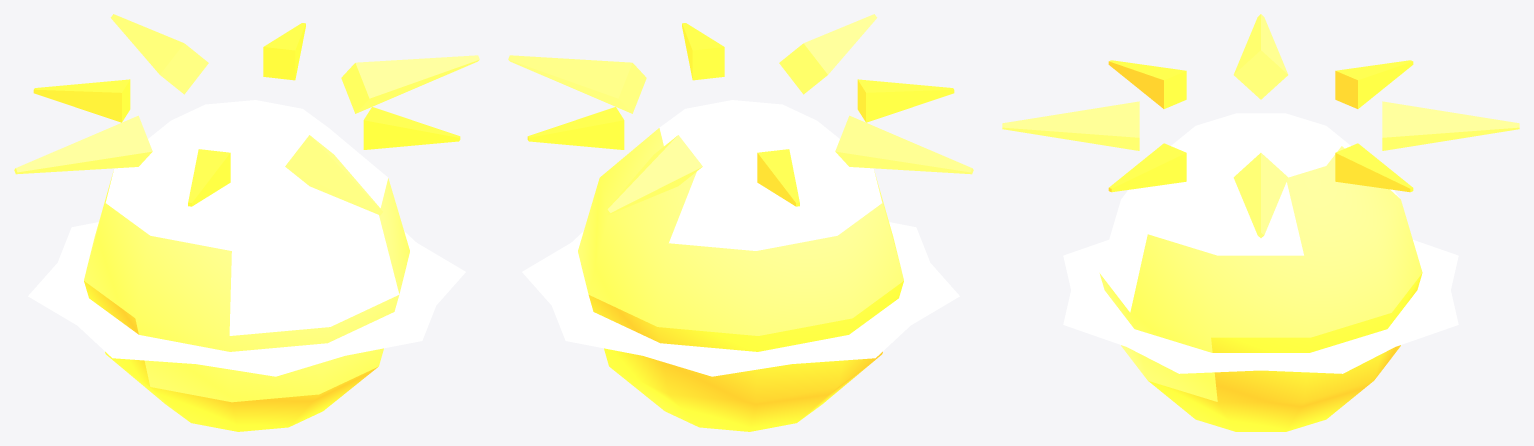
Rendered from yellow_star.glb.
The picture shows the model from 3 angles, left to right: view 1: azimuth 30°, elevation 25°; view 2: azimuth 150°, elevation 25°; view 3: azimuth 270°, elevation 25°; orthographic projection. The views are drawn at different scales.
Visible parts, largest first — view 1: body; view 2: body; view 3: body.
Part boxes in pixels (box(x1,y1,x2,y2)): body: box(14, 14, 479, 431); body: box(508, 14, 973, 431); body: box(1002, 14, 1519, 431).
Bounding box in the file's own units: 192 × 130 × 192.
